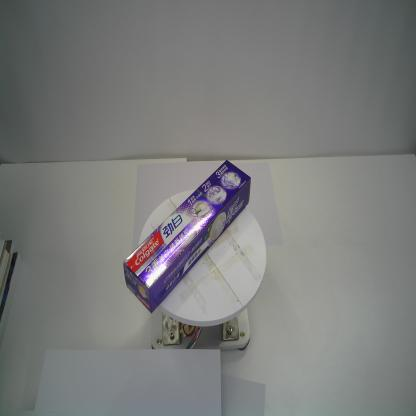Personal Hygiene: (120, 158, 252, 315)
